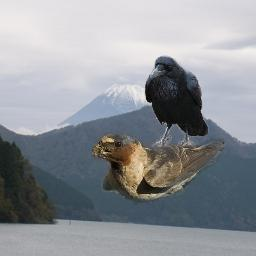Crow: (144, 55, 209, 147)
Swallow: (92, 132, 226, 205)
